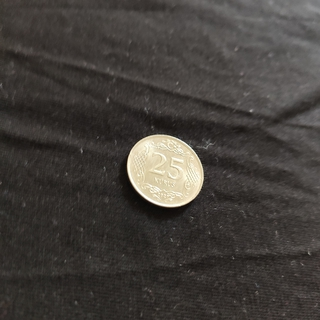25KURUS: (125, 132, 205, 210)
